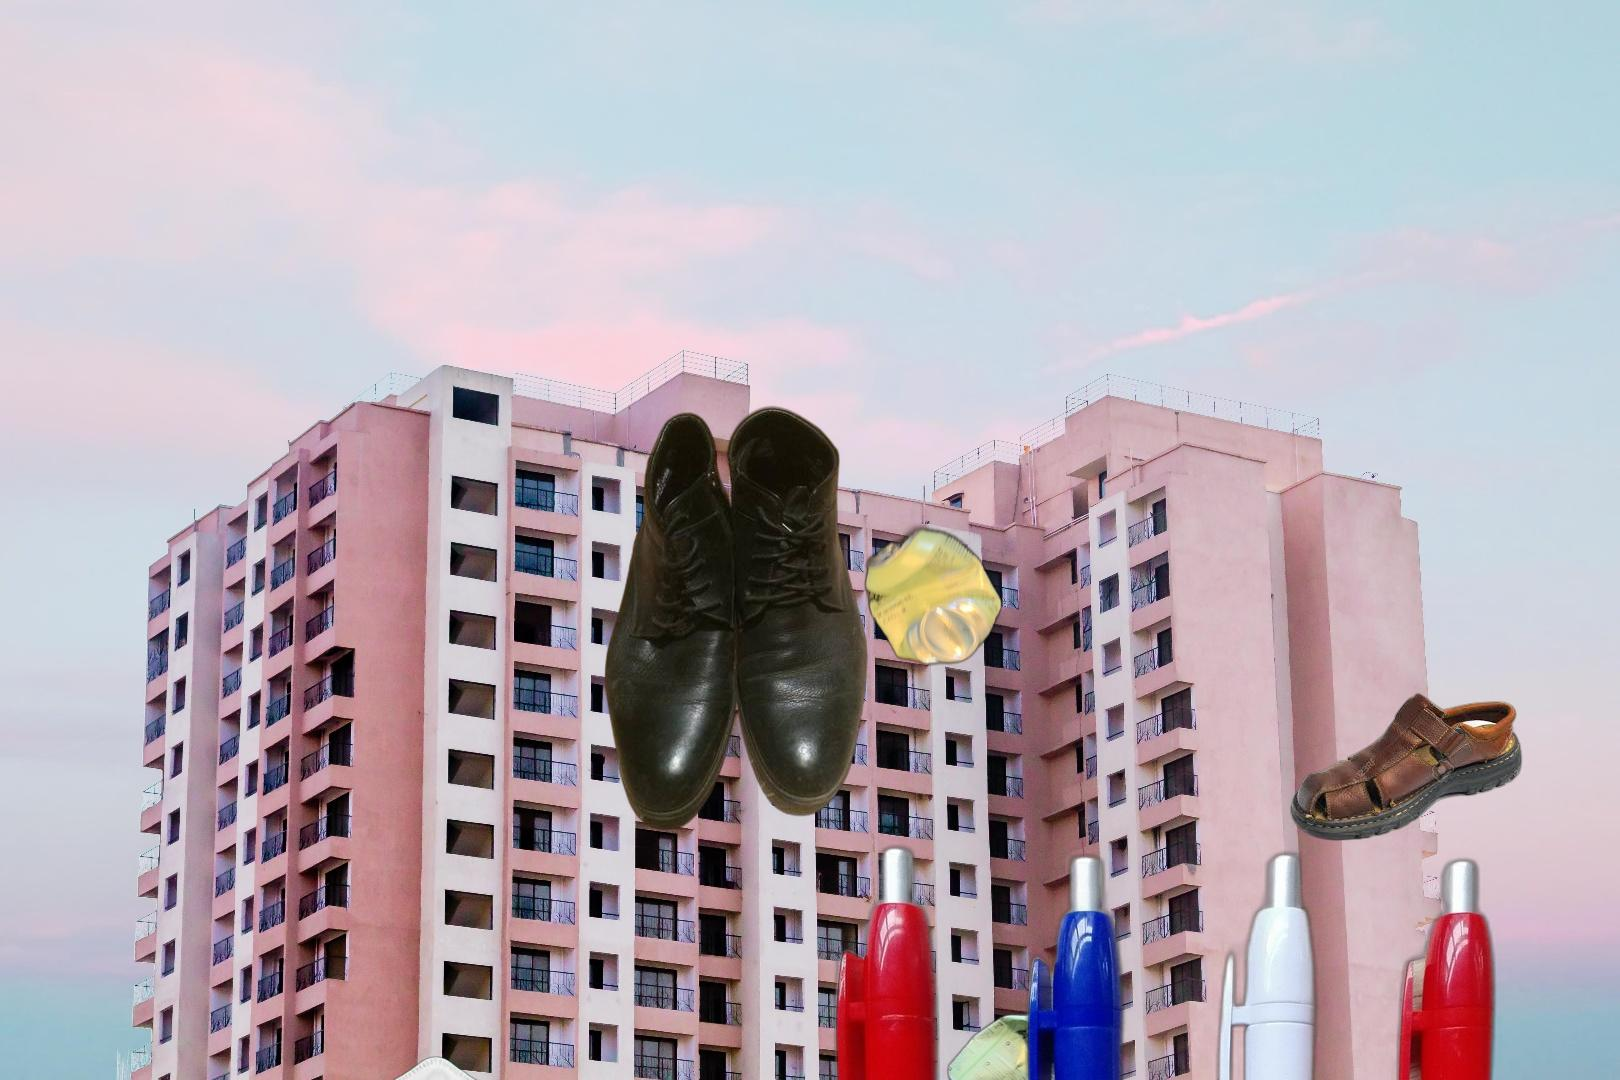glass: (1559, 969, 1620, 1080)
metal-cans: (859, 518, 1006, 670), (943, 1006, 1078, 1080)
paper: (1551, 1041, 1620, 1080)
penholder: (824, 838, 1504, 1080)
shoes: (601, 403, 871, 834), (1289, 689, 1524, 843)
trash: (330, 1053, 523, 1080)
